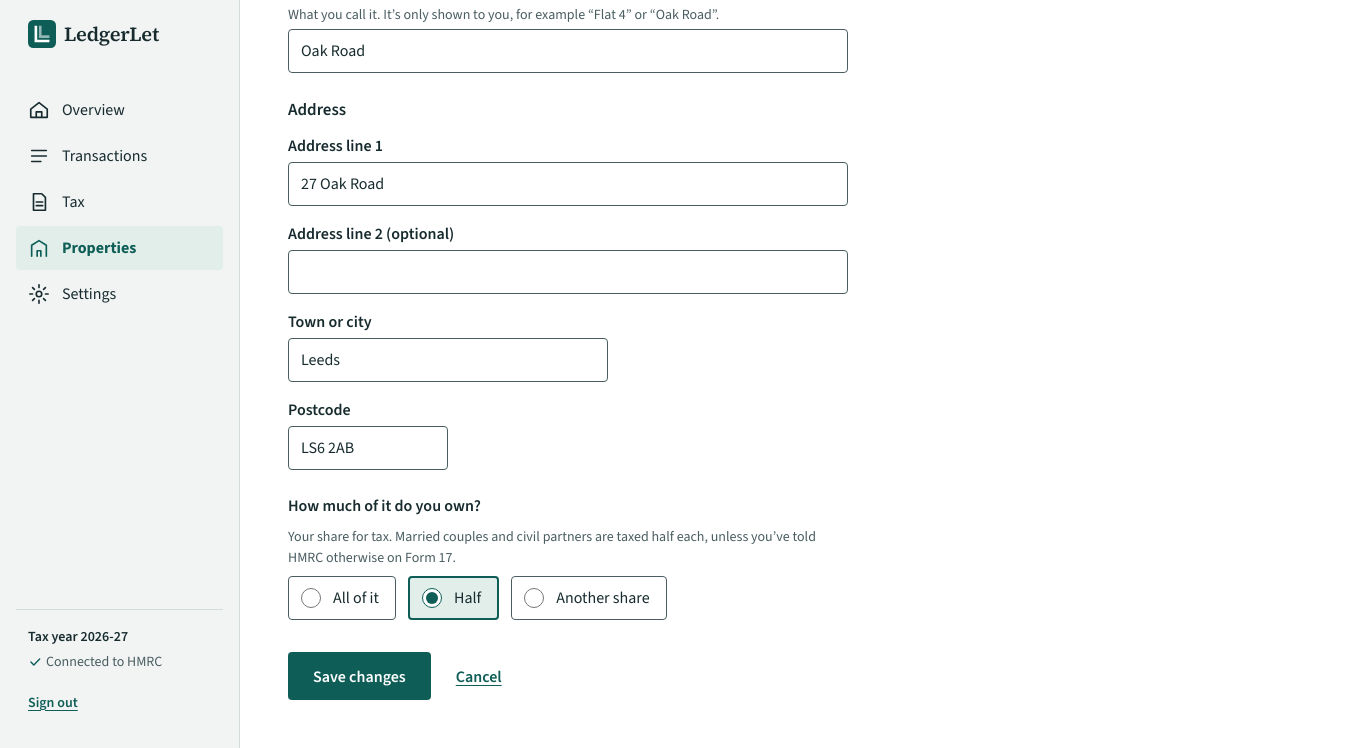
Test: Adding and editing › an edit sends only what changed, and warns that a new share changes sent figures
The image size is (1366, 748).
(page scrolled)
expect the field labelled "Name" holds "Oak Road": met, box [288,29,848,73]
expect the radio button labelled "Half" is checked: met, box [422,588,442,608]
Click the radio button labelled "All of it" at point(311, 598), box [301,588,321,608]
(page scrolled)
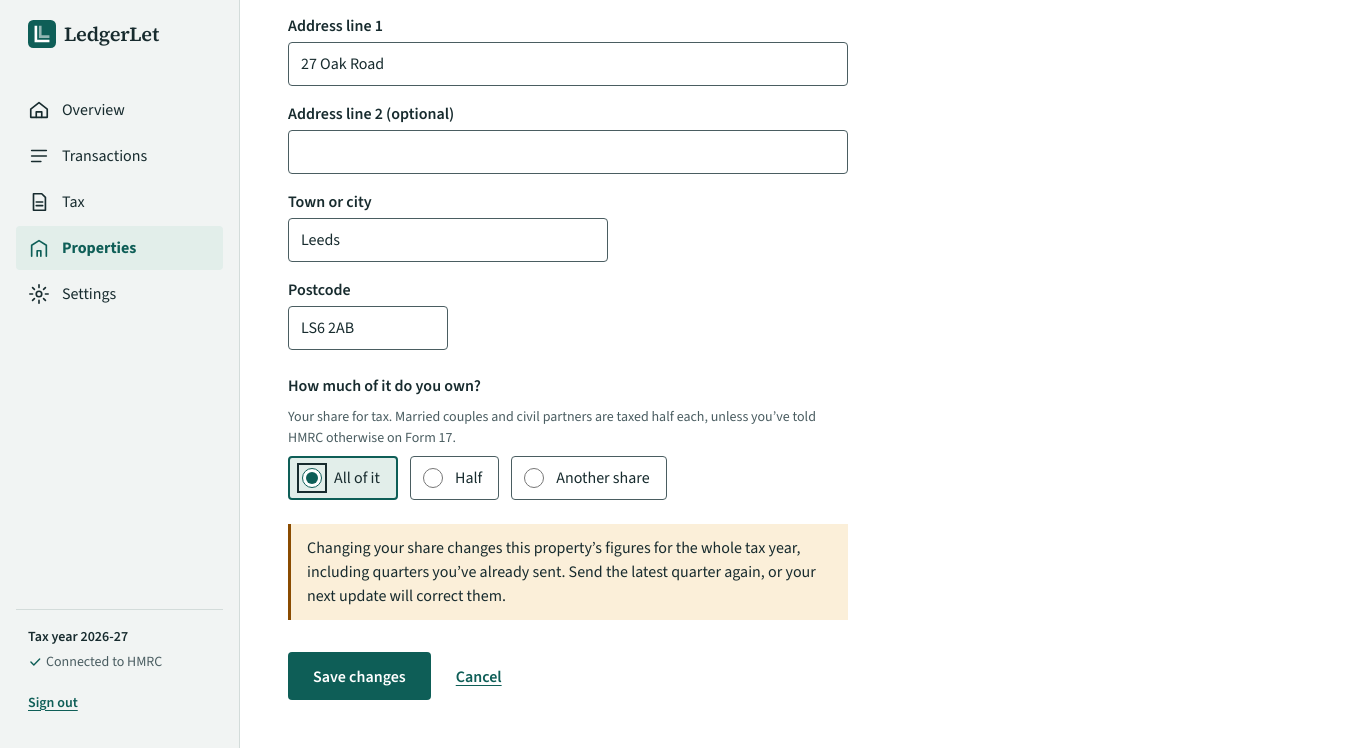
expect the text "including quarters you’ve already sent" is shown: met, box [307,537,816,606]
Click the button "Save changes" at point(359, 676), box [288,652,431,700]
(page scrolled)
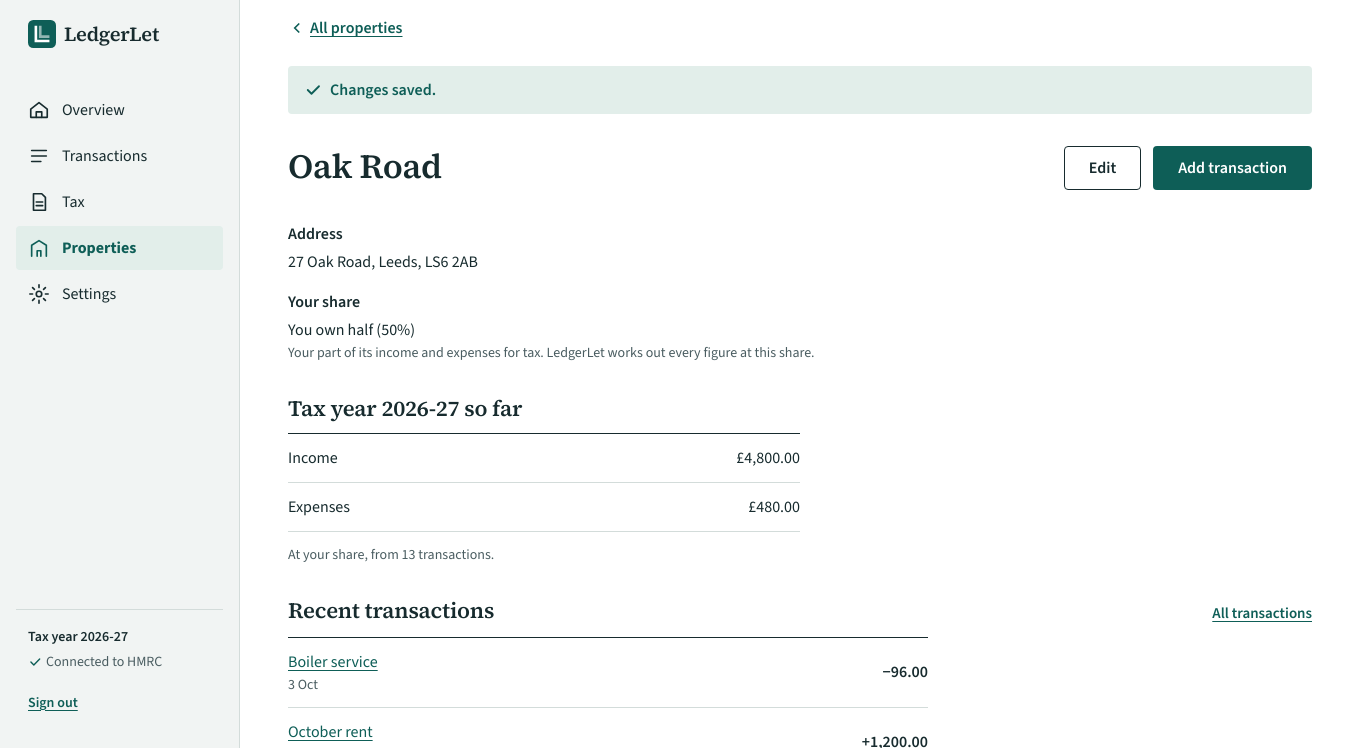
expect the text "Changes saved." is shown: met, box [288,66,1312,114]
